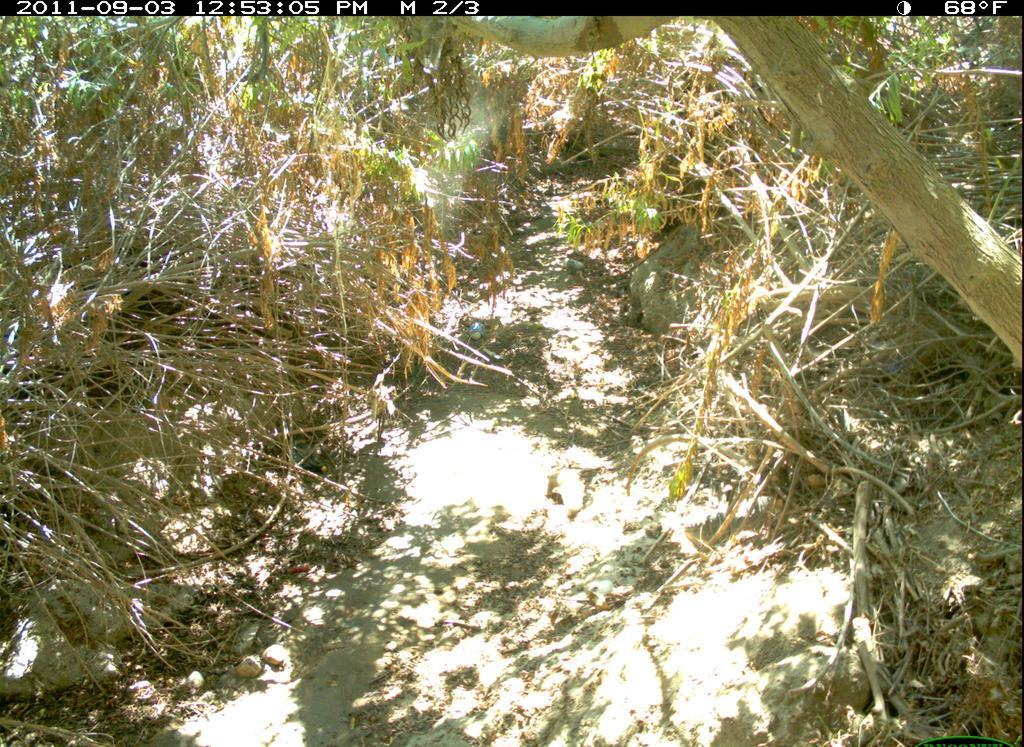squirrel: (537, 460, 599, 516)
